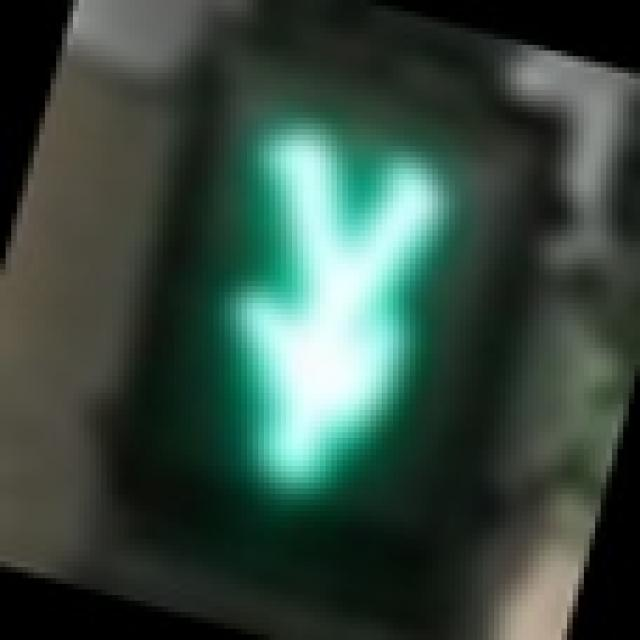green_light: (107, 62, 522, 556)
